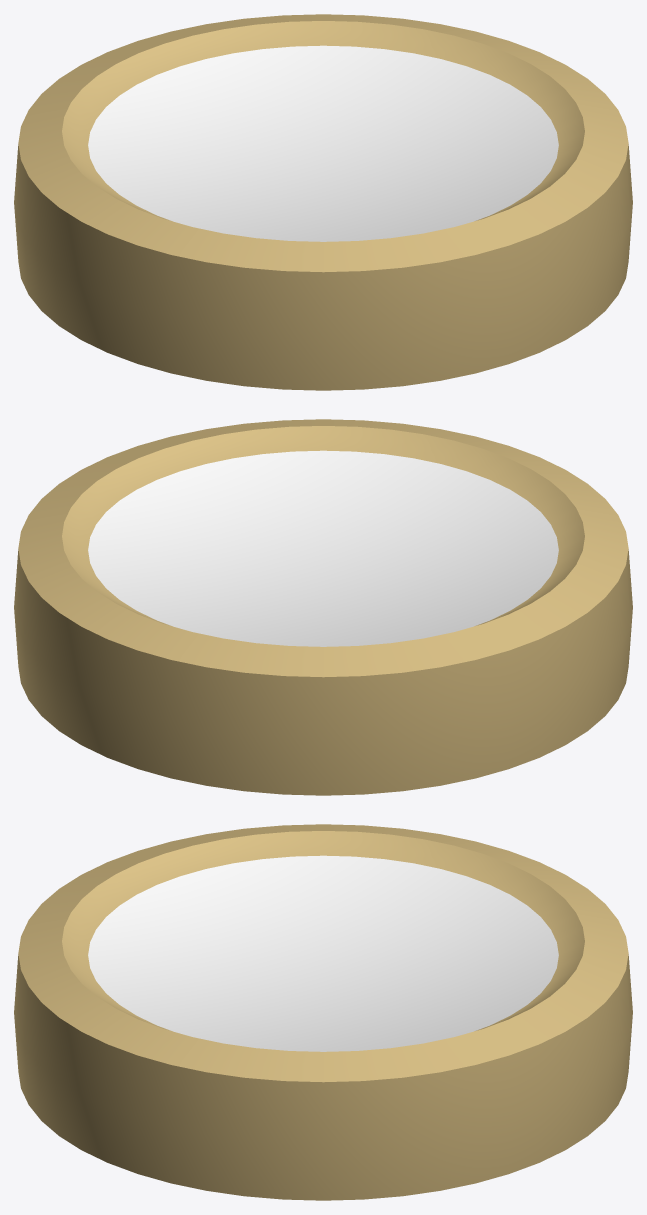
File: othello-disc.web.glb
3 views of the same model, one above another, from view 1: azimuth 30°, elevation 25°; view 2: azimuth 150°, elevation 25°; view 3: azimuth 270°, elevation 25° (orthographic).
Visible parts, largest first — view 1: OthelloDisc; view 2: OthelloDisc; view 3: OthelloDisc.
Part boxes in pixels (x1,y1,x2,y2): OthelloDisc: (14,14,632,390); OthelloDisc: (14,419,632,795); OthelloDisc: (14,824,632,1200).
Bounding box in the file's own units: 0.1183 × 0.03 × 0.1183.
